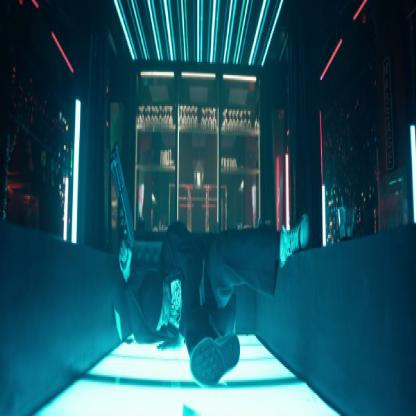Guns: (107, 140, 134, 274)
